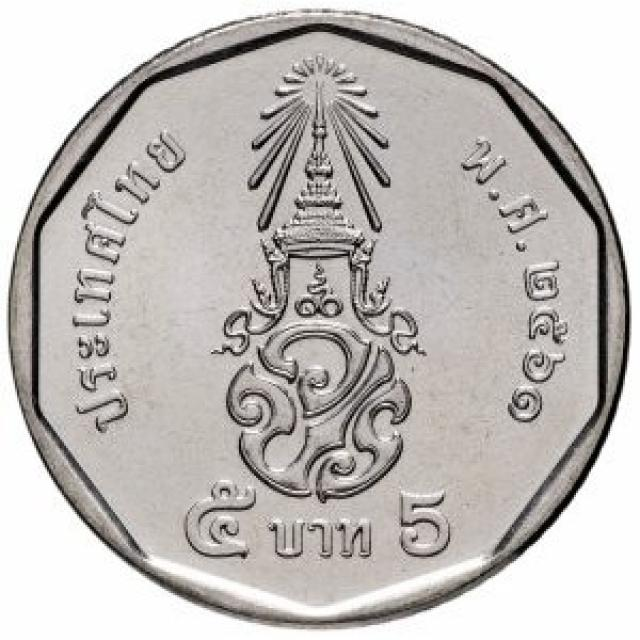5 Bath: (4, 3, 640, 640)
